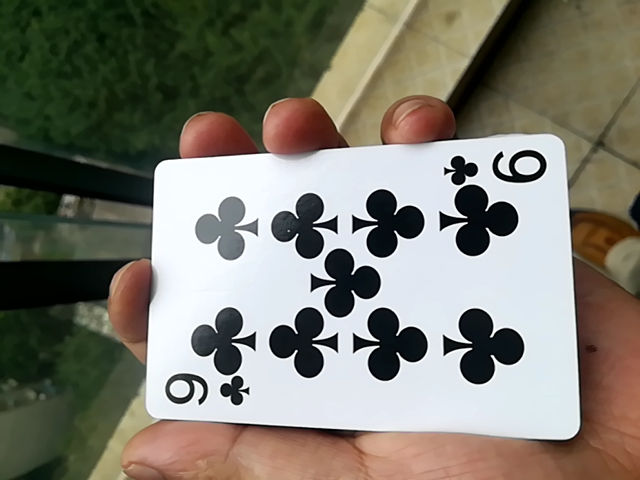mh 9: (131, 134, 574, 441)
